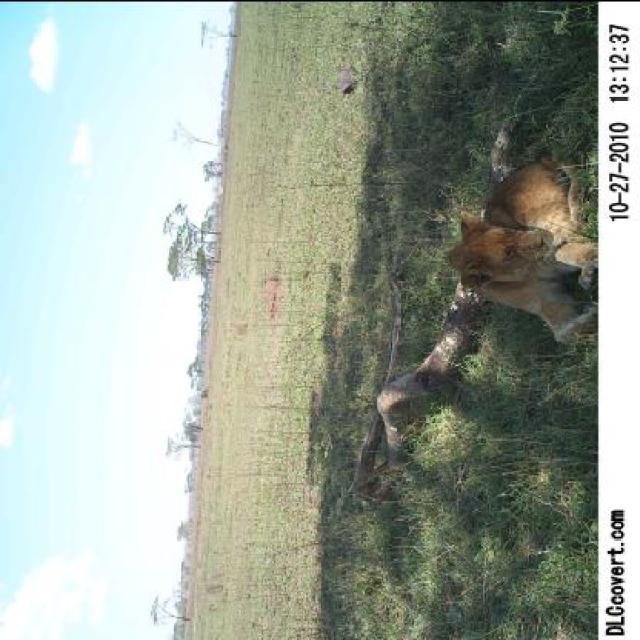Lion: (443, 138, 603, 354)
